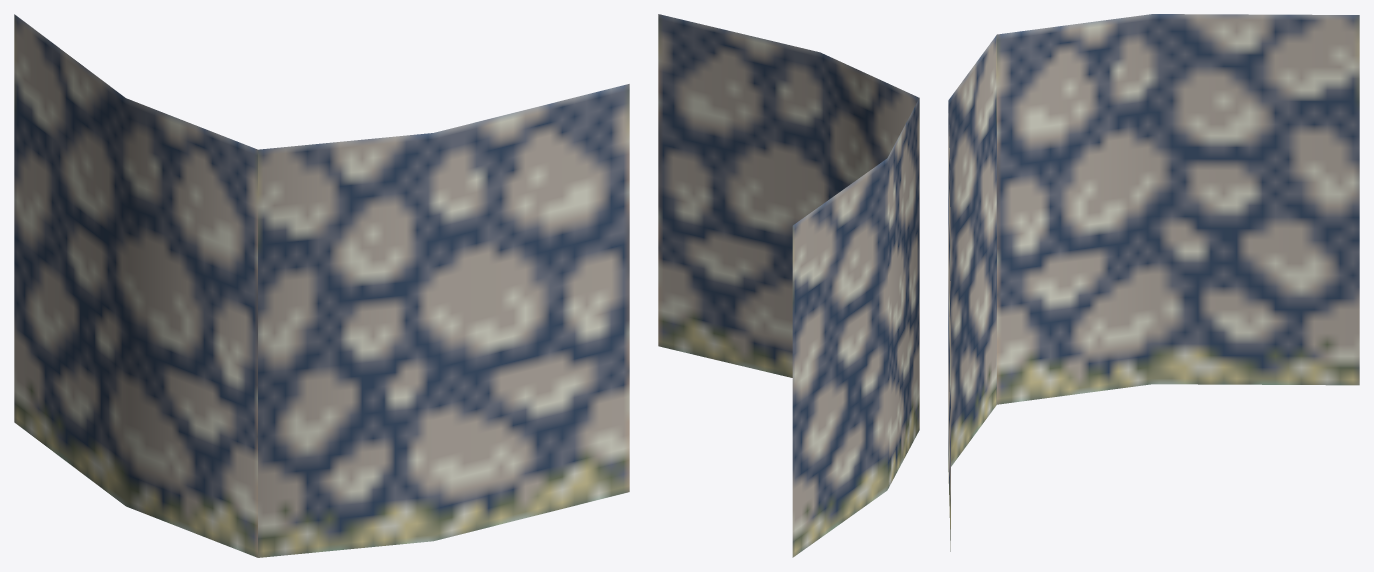
Rendered from sandCTile_wallLower_outerCorner.fbx.
3 views of the same model, side by side, from view 1: azimuth 30°, elevation 25°; view 2: azimuth 150°, elevation 25°; view 3: azimuth 270°, elevation 25° (orthographic). The views are drawn at different scales.
Visible parts, largest first — view 1: sandCTile_wallLower_outerCorner; view 2: sandCTile_wallLower_outerCorner; view 3: sandCTile_wallLower_outerCorner.
Part boxes in pixels (<box>): sandCTile_wallLower_outerCorner: <box>14,14,629,557</box>; sandCTile_wallLower_outerCorner: <box>658,14,919,557</box>; sandCTile_wallLower_outerCorner: <box>948,14,1359,551</box>.
Size of the model in its own units: 1.01 by 1 by 1.01.
